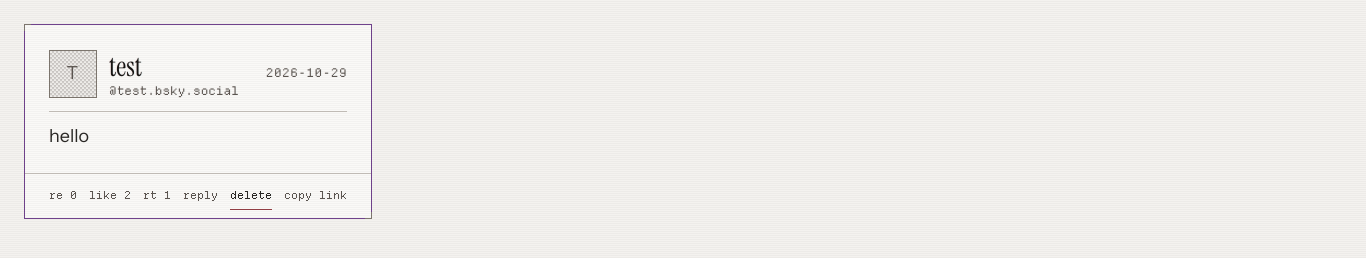
Test: PostCard actions › hands focus to the owning deck before the confirm control is disabled
Click the button "delete": point(251, 196) [230,182,272,210]
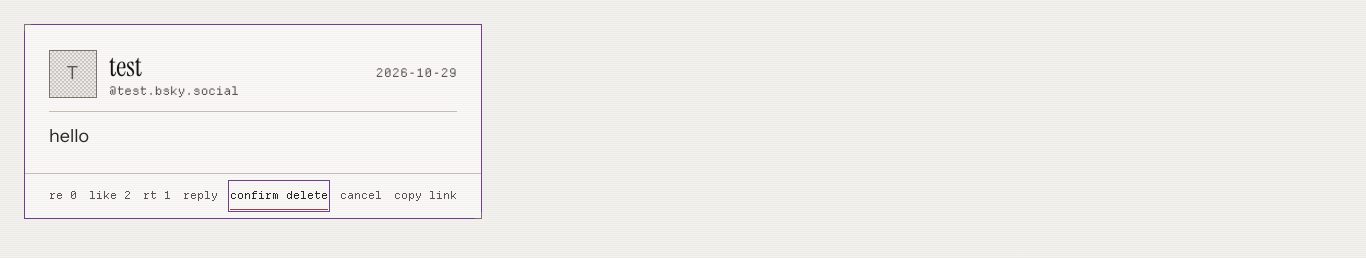
Click the button "confirm delete": point(279, 196) [230,182,328,210]
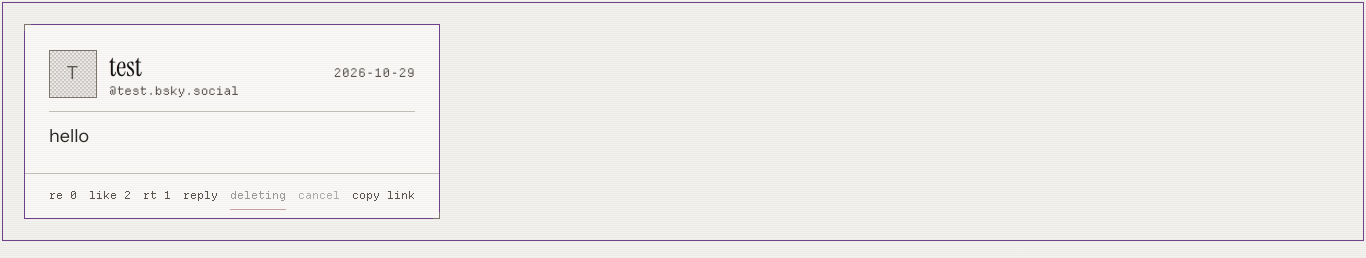
Expected: the button named "confirm delete" is disabled, [230,182,286,210]
